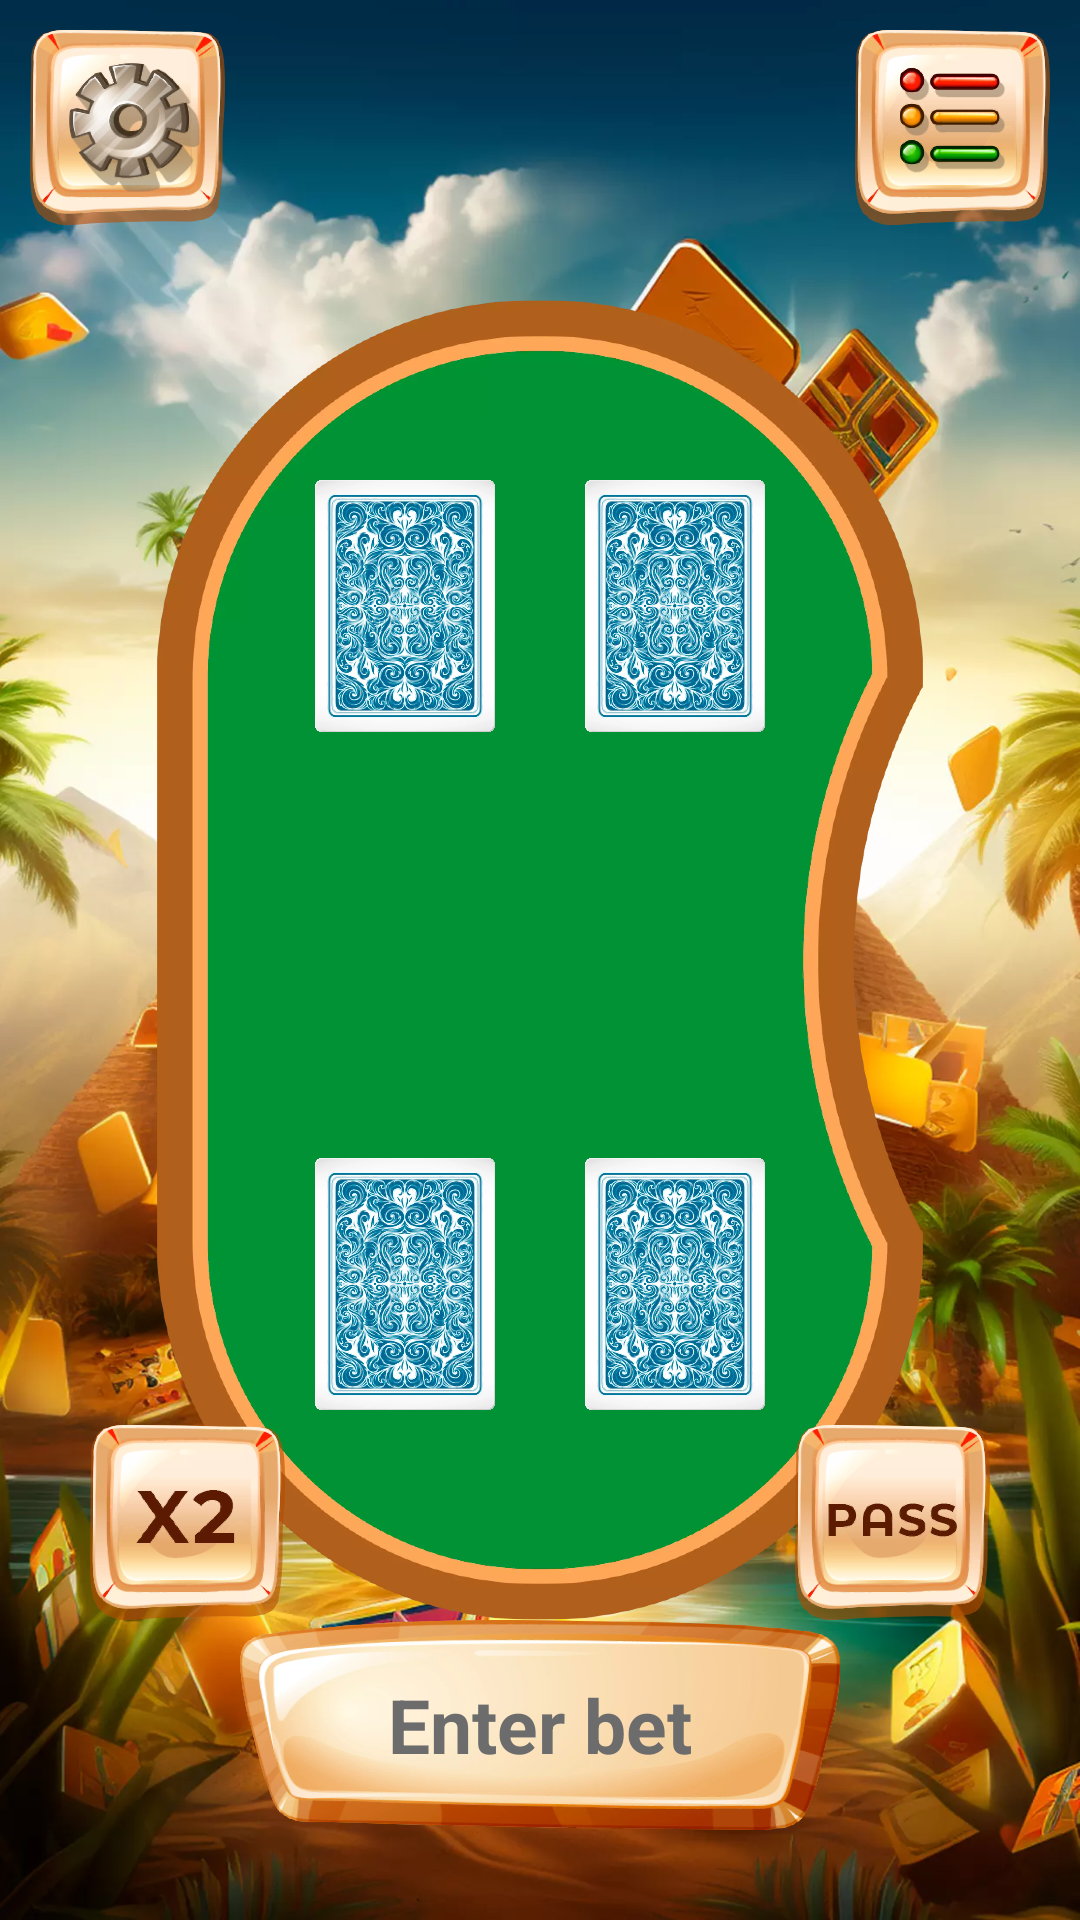

Where to tap for icons on this 1080 x 1920 app screen, as point (x, y):
settings pyra mid: point (127, 127)
